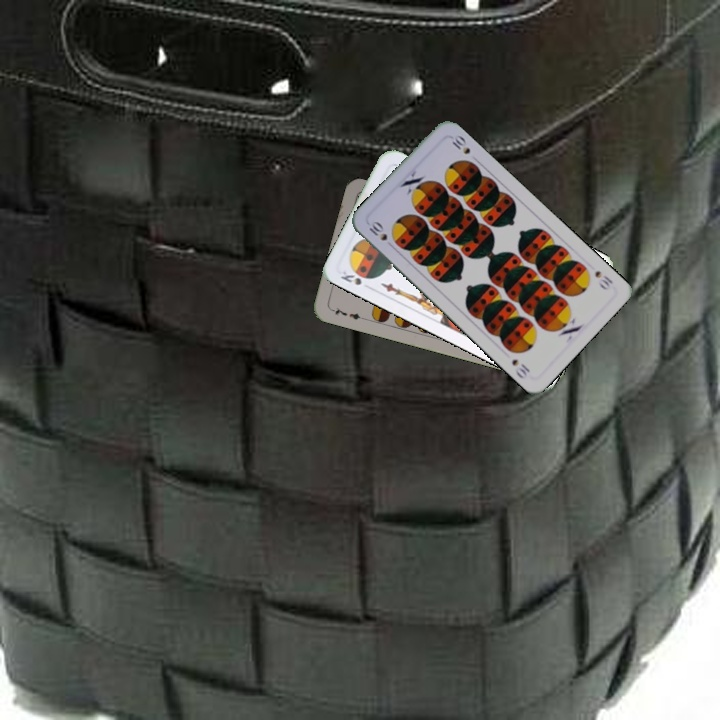E7: (327, 303, 367, 323)
S10: (365, 217, 390, 243), (591, 267, 616, 293)
SK: (337, 267, 374, 292)
